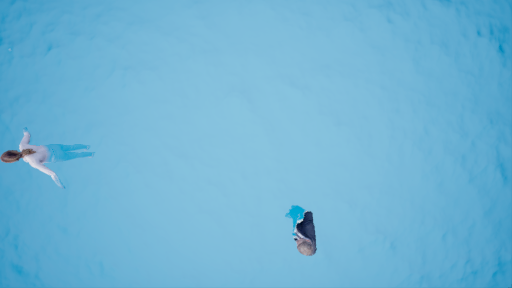person: (3, 129, 104, 191), (278, 201, 323, 261)
